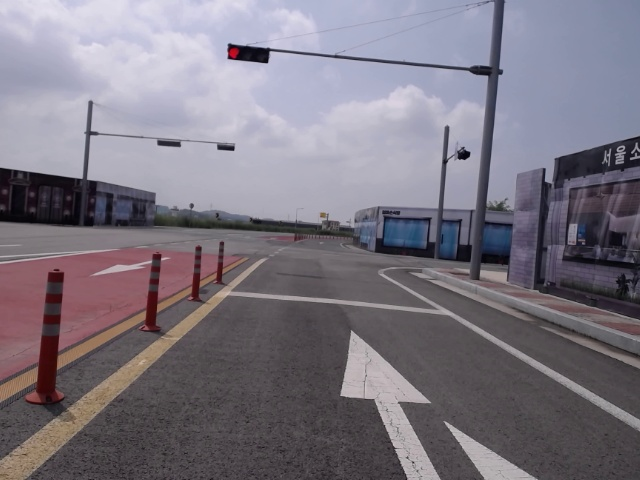red_3: (227, 44, 269, 65)
